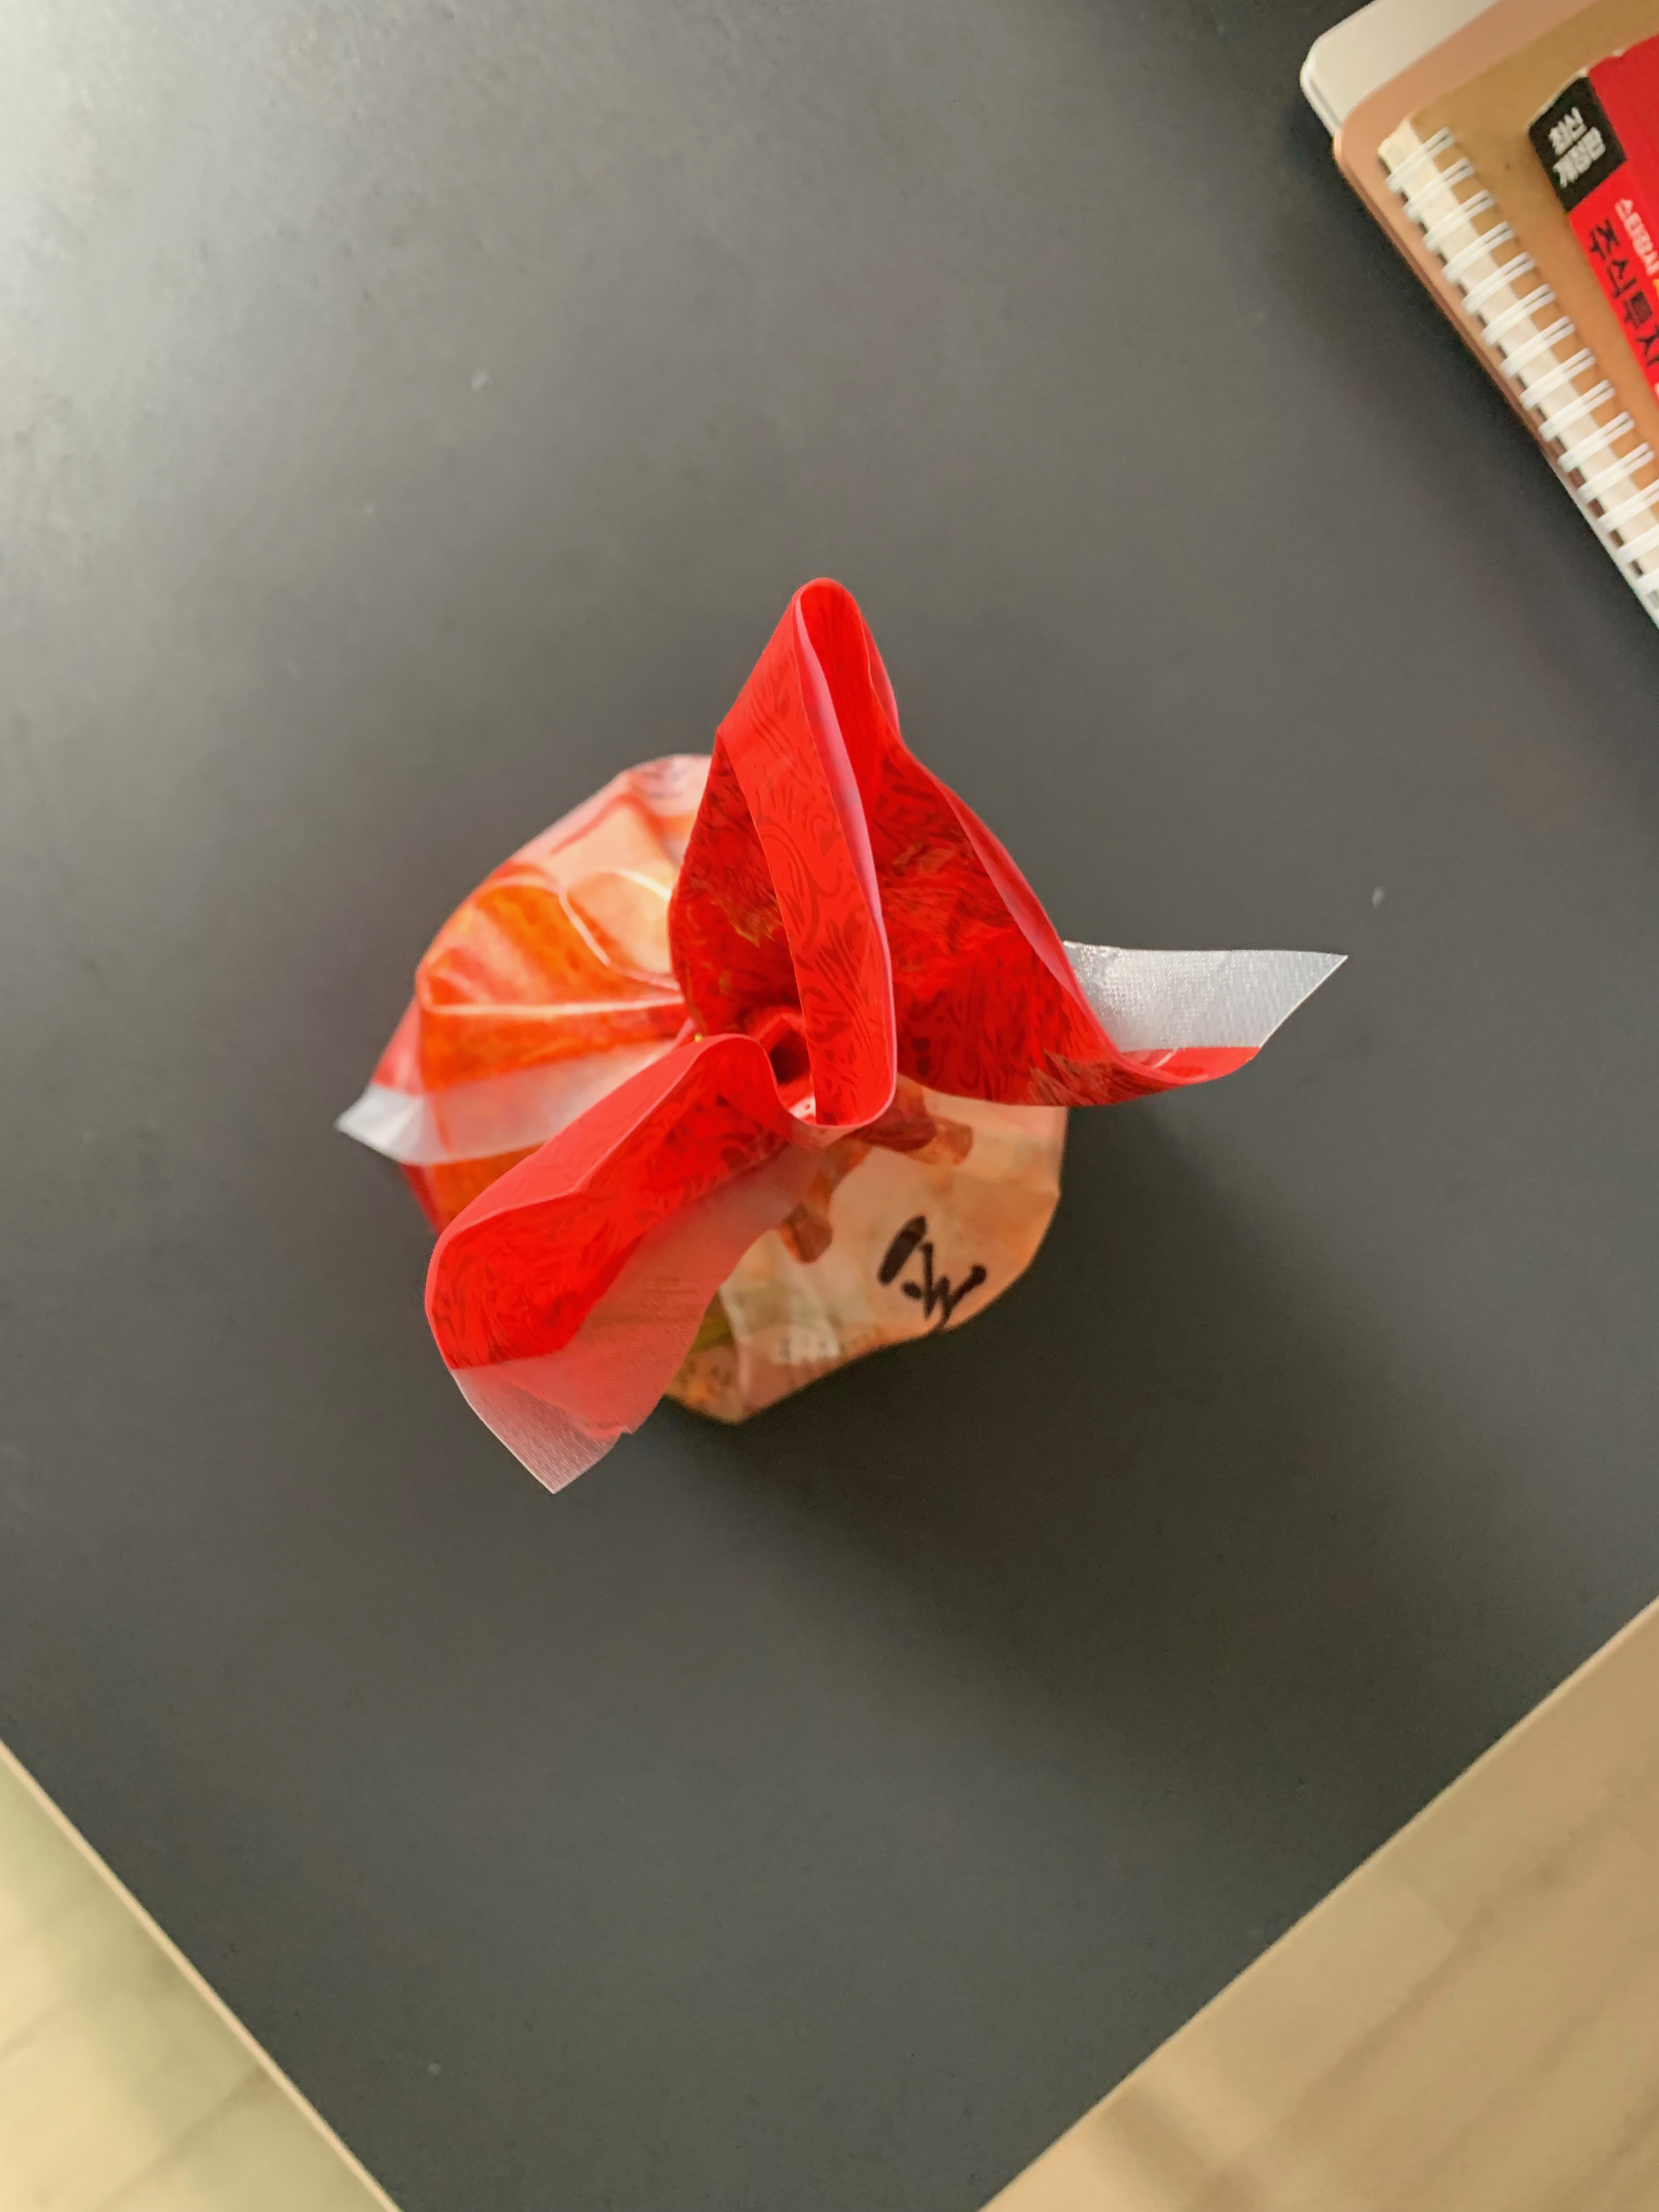kimchi: (375, 573, 1168, 1430)
